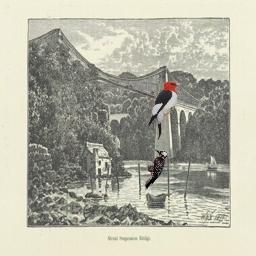Woodpecker: (147, 81, 183, 140), (144, 149, 170, 191)
